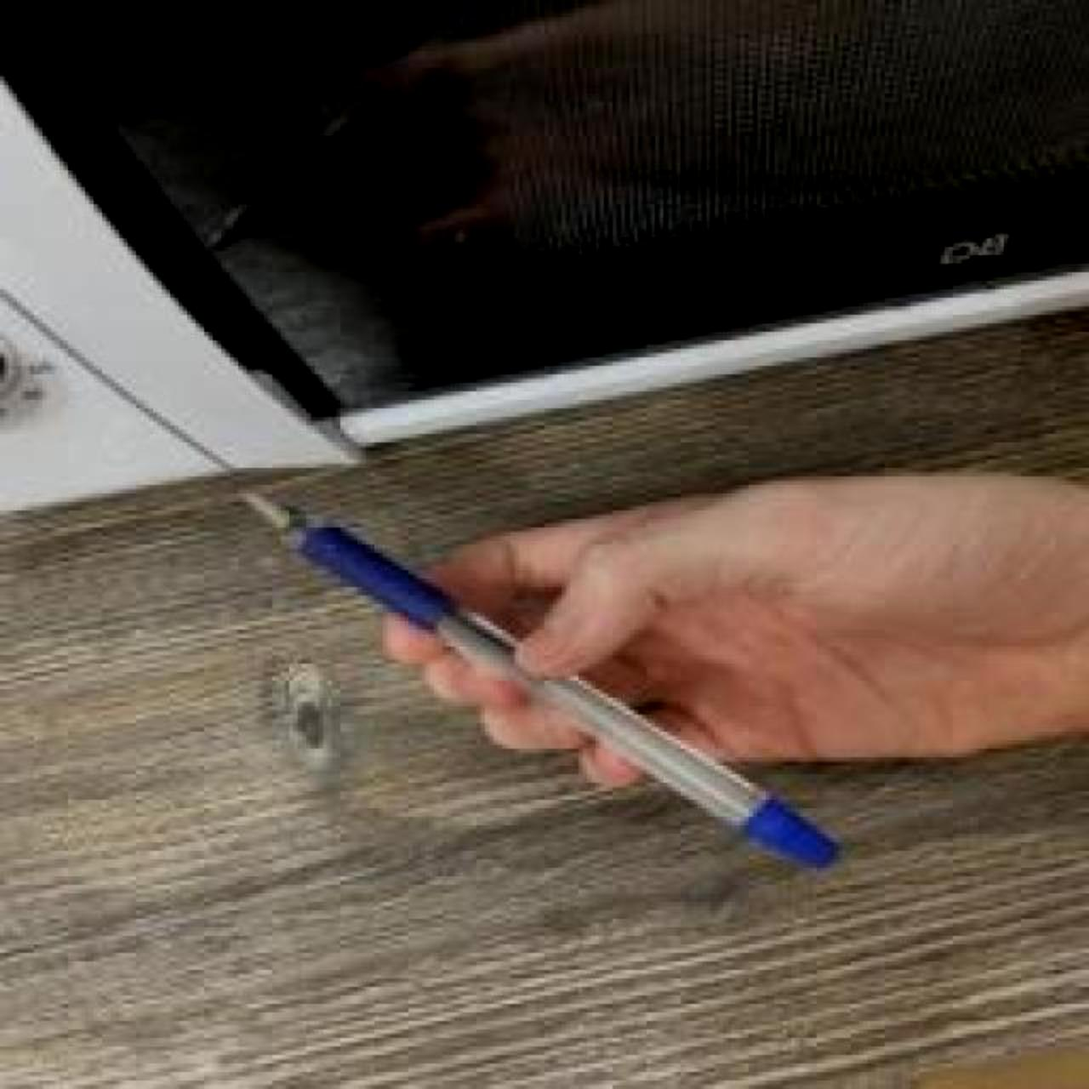pen: (238, 490, 834, 869)
